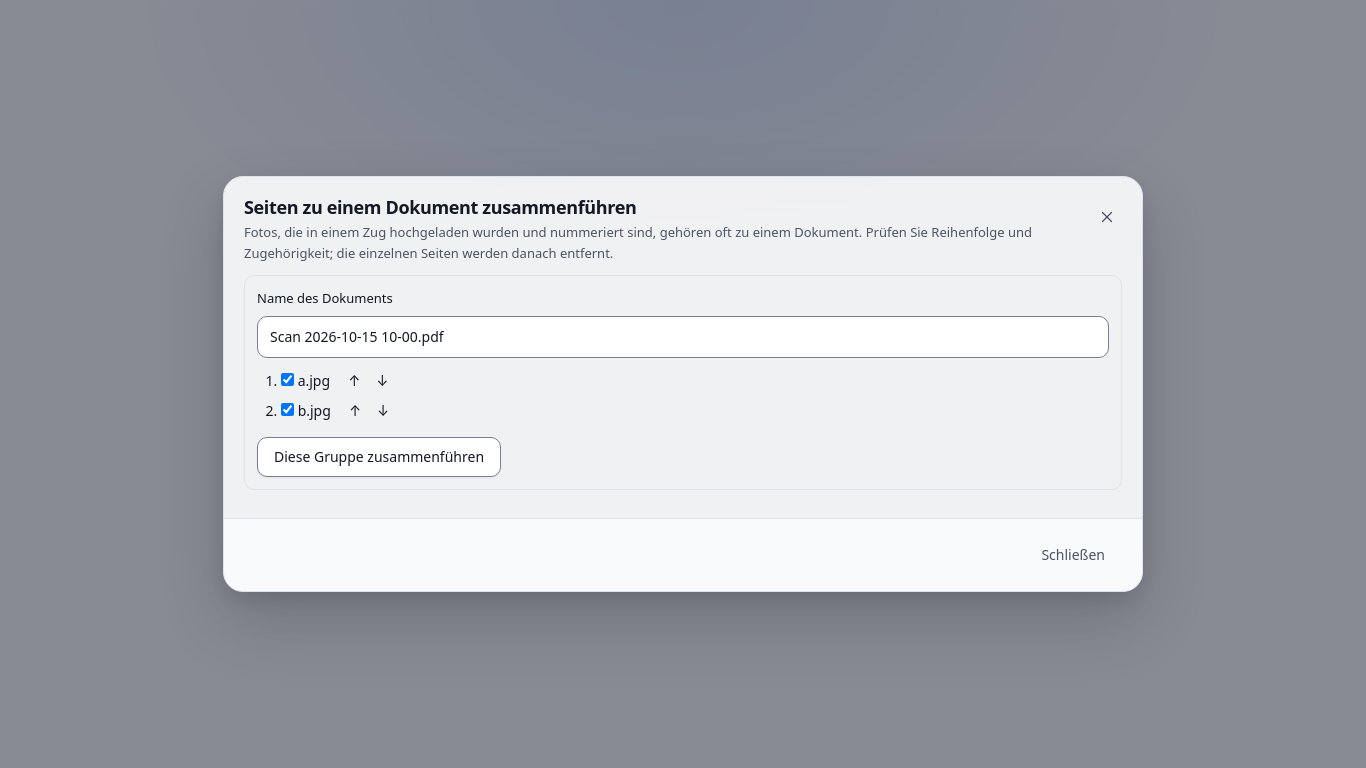
Scenario: MergeDialog › a group with fewer than two kept pages cannot be merged
expect the text "a.jpg" is shown: met, box [281,371,330,390]
Click the checkbox labelled "b.jpg".
click(288, 409)  # box [281,402,294,416]
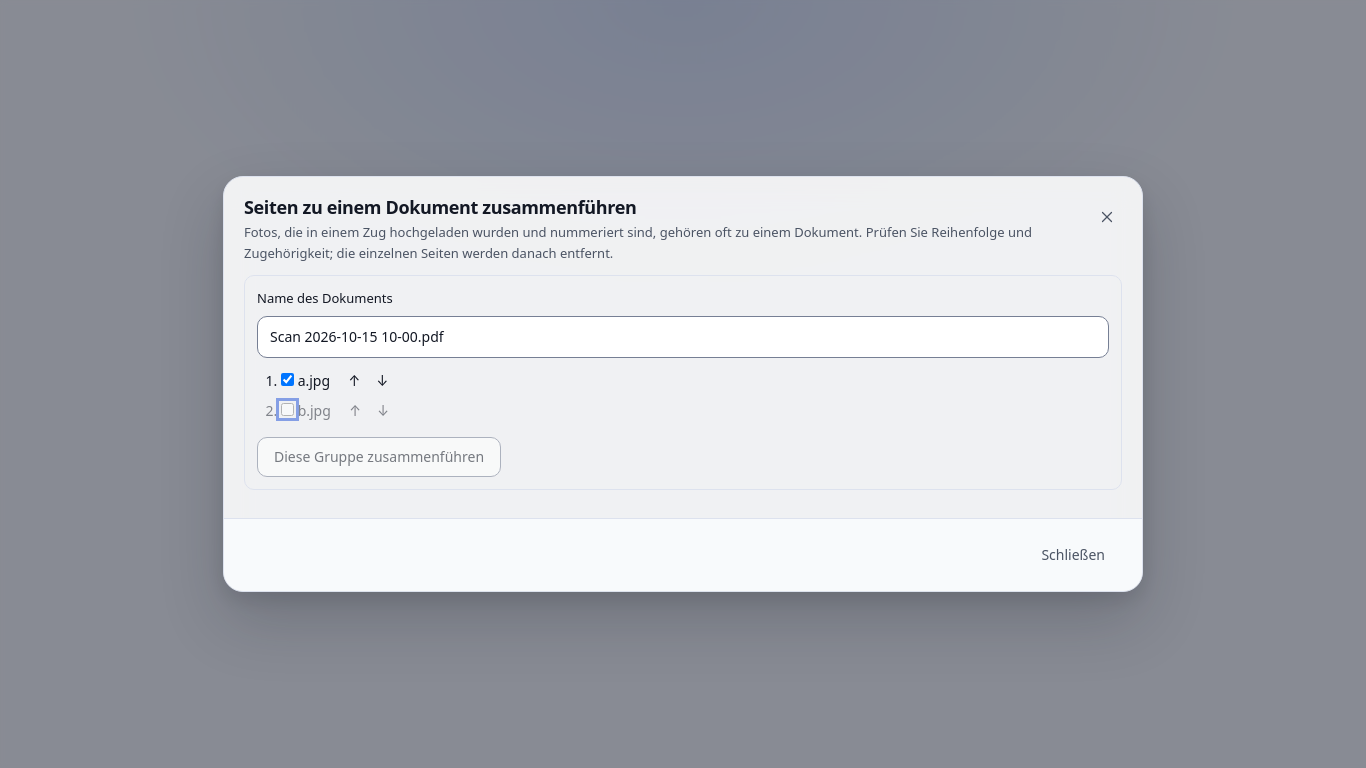
expect the button "Diese Gruppe zusammenführen" is disabled: met, box [257,437,501,477]
